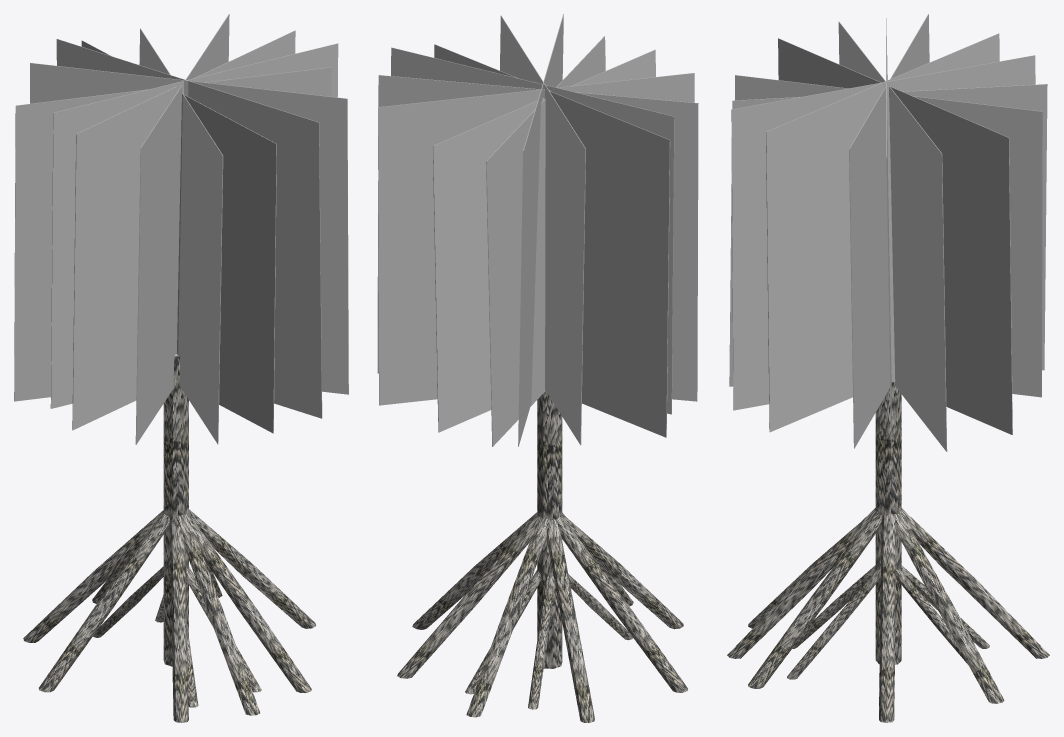
The model's file is palm-tree.fbx.
3 views of the same model, side by side, from view 1: azimuth 30°, elevation 25°; view 2: azimuth 150°, elevation 25°; view 3: azimuth 270°, elevation 25° (orthographic).
Parts seen in each view (by area): view 1: Plane, Cube.004, Cube.002, Cube, Cube.001, Cube.003, Cube.005; view 2: Plane, Cube.003, Cube.002, Cube, Cube.001, Cube.005, Cube.004; view 3: Plane, Cube.001, Cube, Cube.005, Cube.004, Cube.003, Cube.002.
Boxes of the visible parts, x1,y1,x2,y2 form: Plane: (14,14,348,444); Cube.004: (169,514,311,722); Cube.002: (38,509,315,692); Cube: (163,352,188,666); Cube.001: (92,514,260,715); Cube.003: (23,510,222,642); Cube.005: (93,566,261,707); Plane: (377,14,698,446); Cube.003: (397,515,594,722); Cube.002: (412,512,687,692); Cube: (537,391,562,668); Cube.001: (466,513,633,717); Cube.005: (465,569,633,709); Cube.004: (562,514,683,629); Plane: (729,14,1047,456); Cube.001: (727,508,1049,658); Cube: (875,381,901,664); Cube.005: (787,565,989,679); Cube.004: (748,511,882,688); Cube.003: (894,511,1004,703); Cube.002: (879,513,896,722).
Size of the model in its own units: 1185 by 2187 by 1095.
